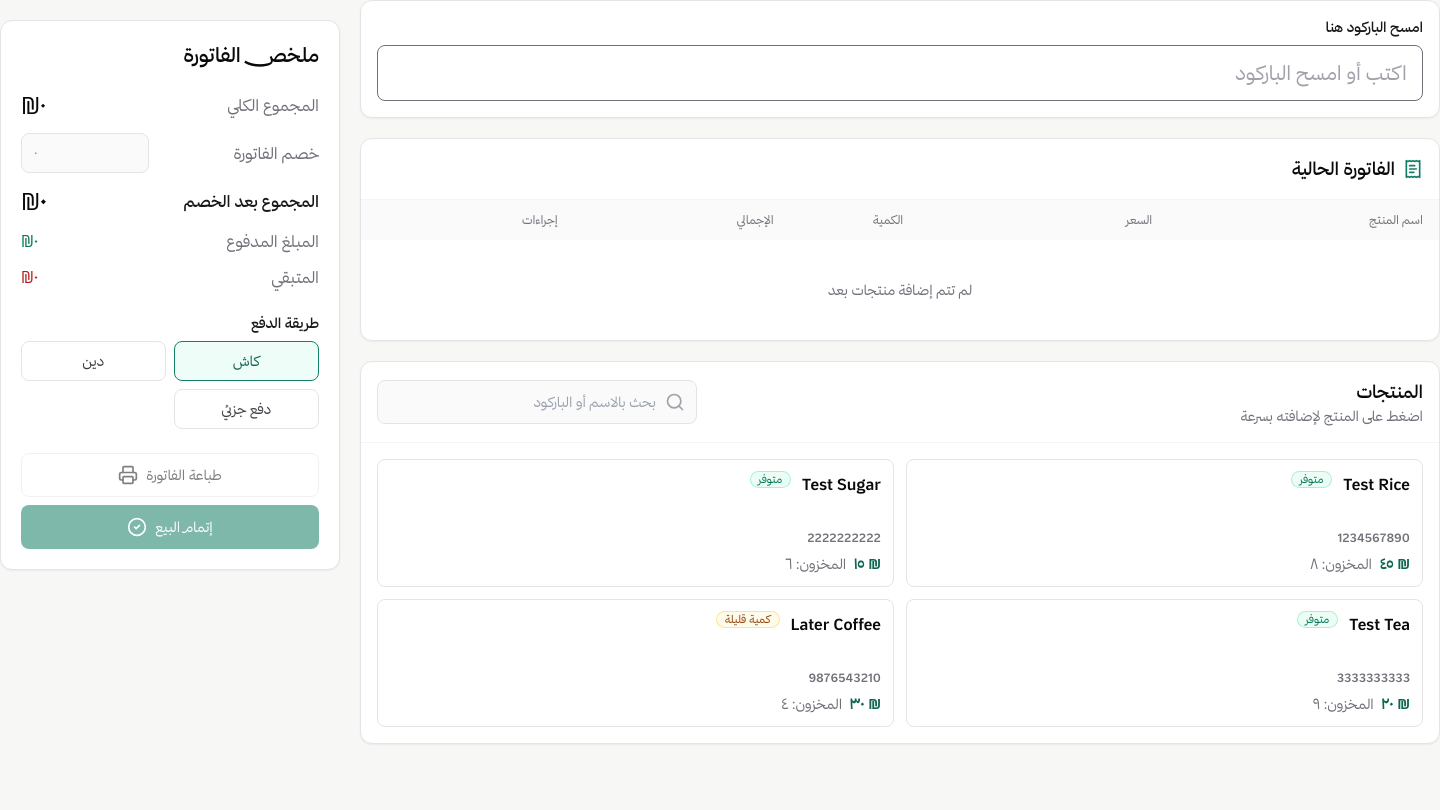
Test: CashierPage invoice draft › keeps current invoice items when the cashier page unmounts during navigation
This screenshot has width=1440, height=810.
Step 1. Click the button "Test Rice متوفر 1234567890 ₪ ٤٥ المخزون: ٨" → (1377,484), box [919,472,1410,574]
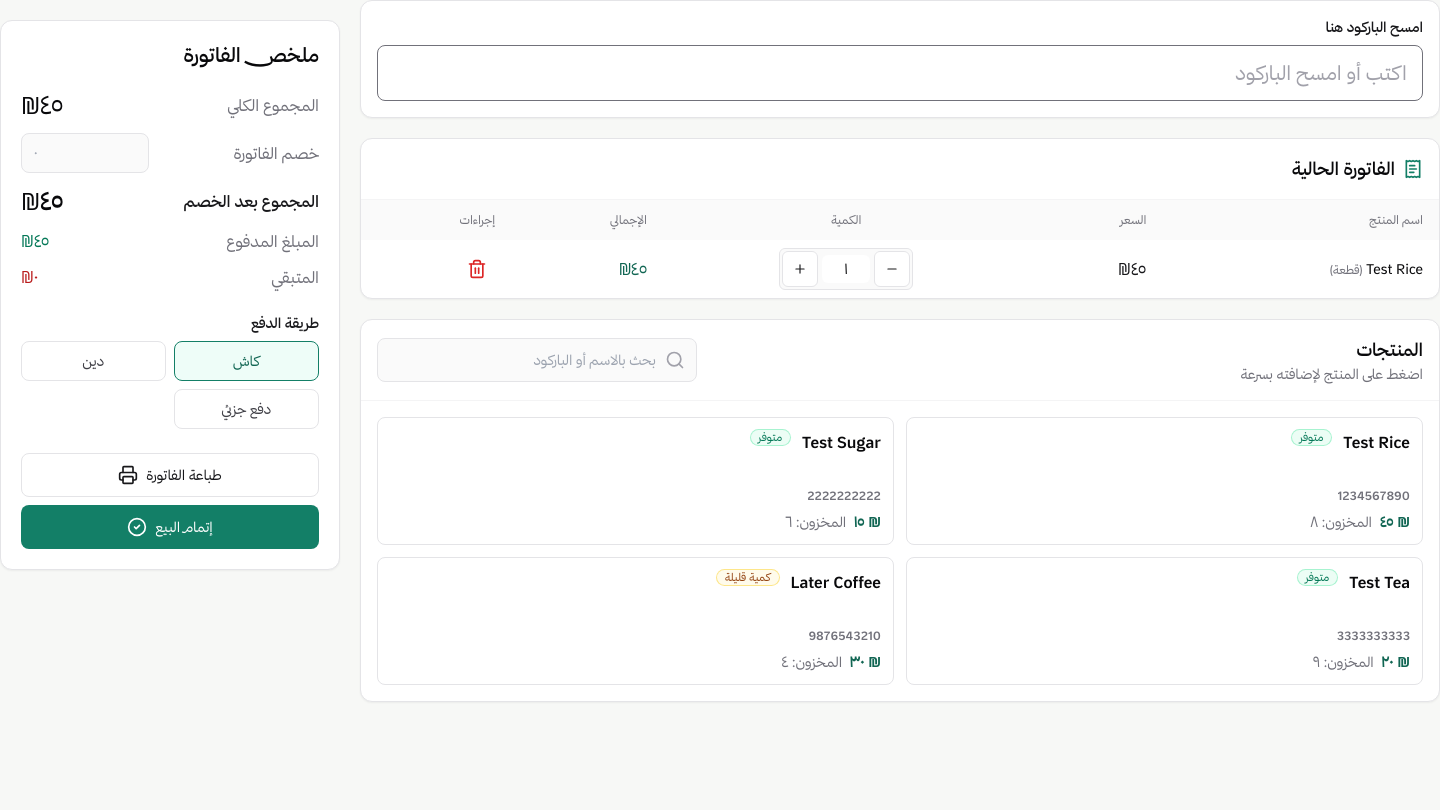
Check: the text "لم تتم إضافة منتجات بعد" is gone
Check: the button "إتمام البيع" is enabled, box [21,505,319,549]
